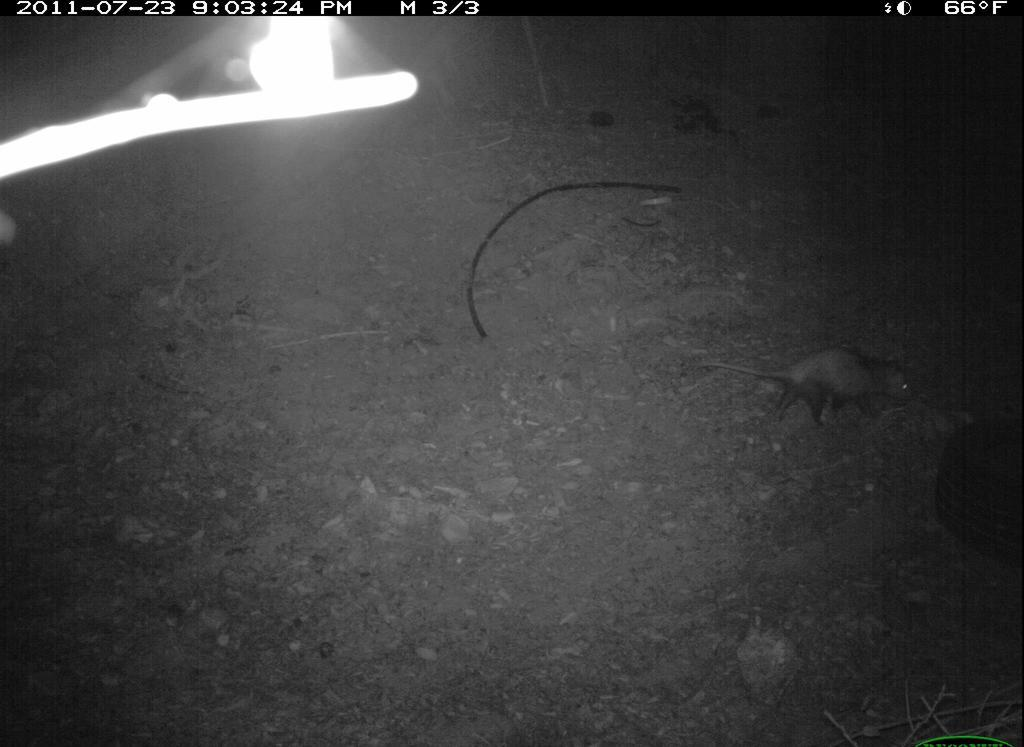opossum: (689, 341, 926, 432)
